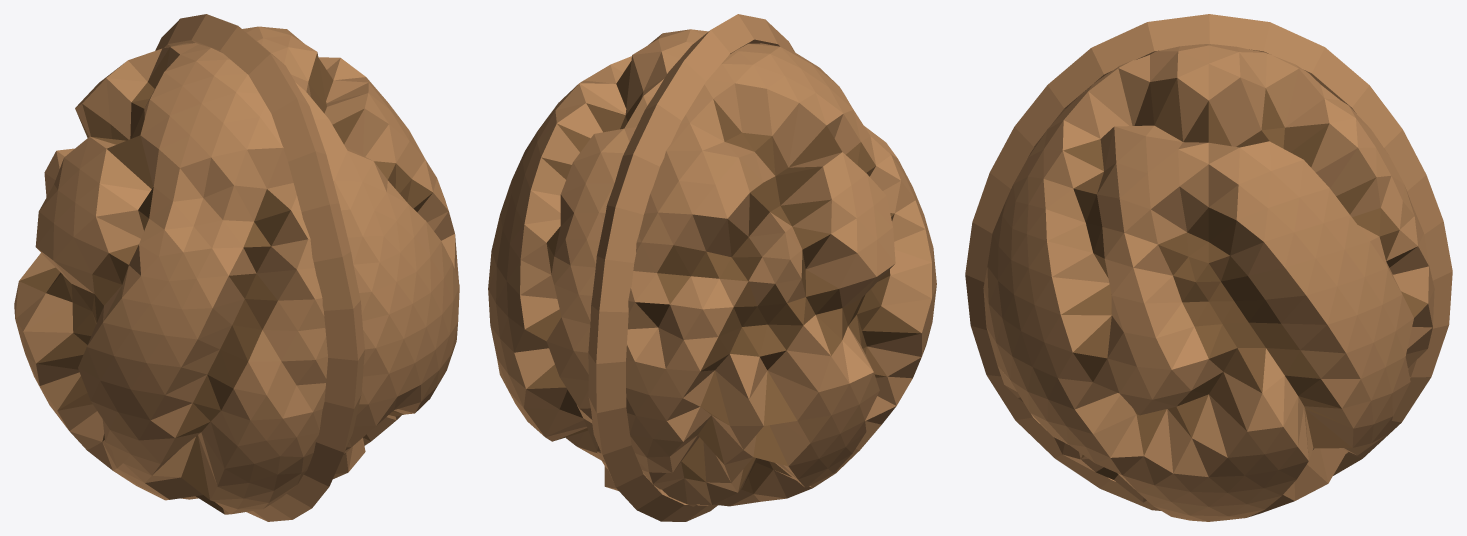
Rendered from walnut.glb.
3 renders of one model, left to right at view 1: azimuth 30°, elevation 25°; view 2: azimuth 150°, elevation 25°; view 3: azimuth 270°, elevation 25°, orthographic. The views are drawn at different scales.
Parts seen in each view (by area): view 1: Walnut; view 2: Walnut; view 3: Walnut.
Boxes of the visible parts, x1,y1,x2,y2 form: Walnut: [14, 14, 459, 521]; Walnut: [488, 14, 936, 521]; Walnut: [965, 14, 1452, 521].
Size of the model in its own units: 0.903 by 1.1 by 0.9675.
